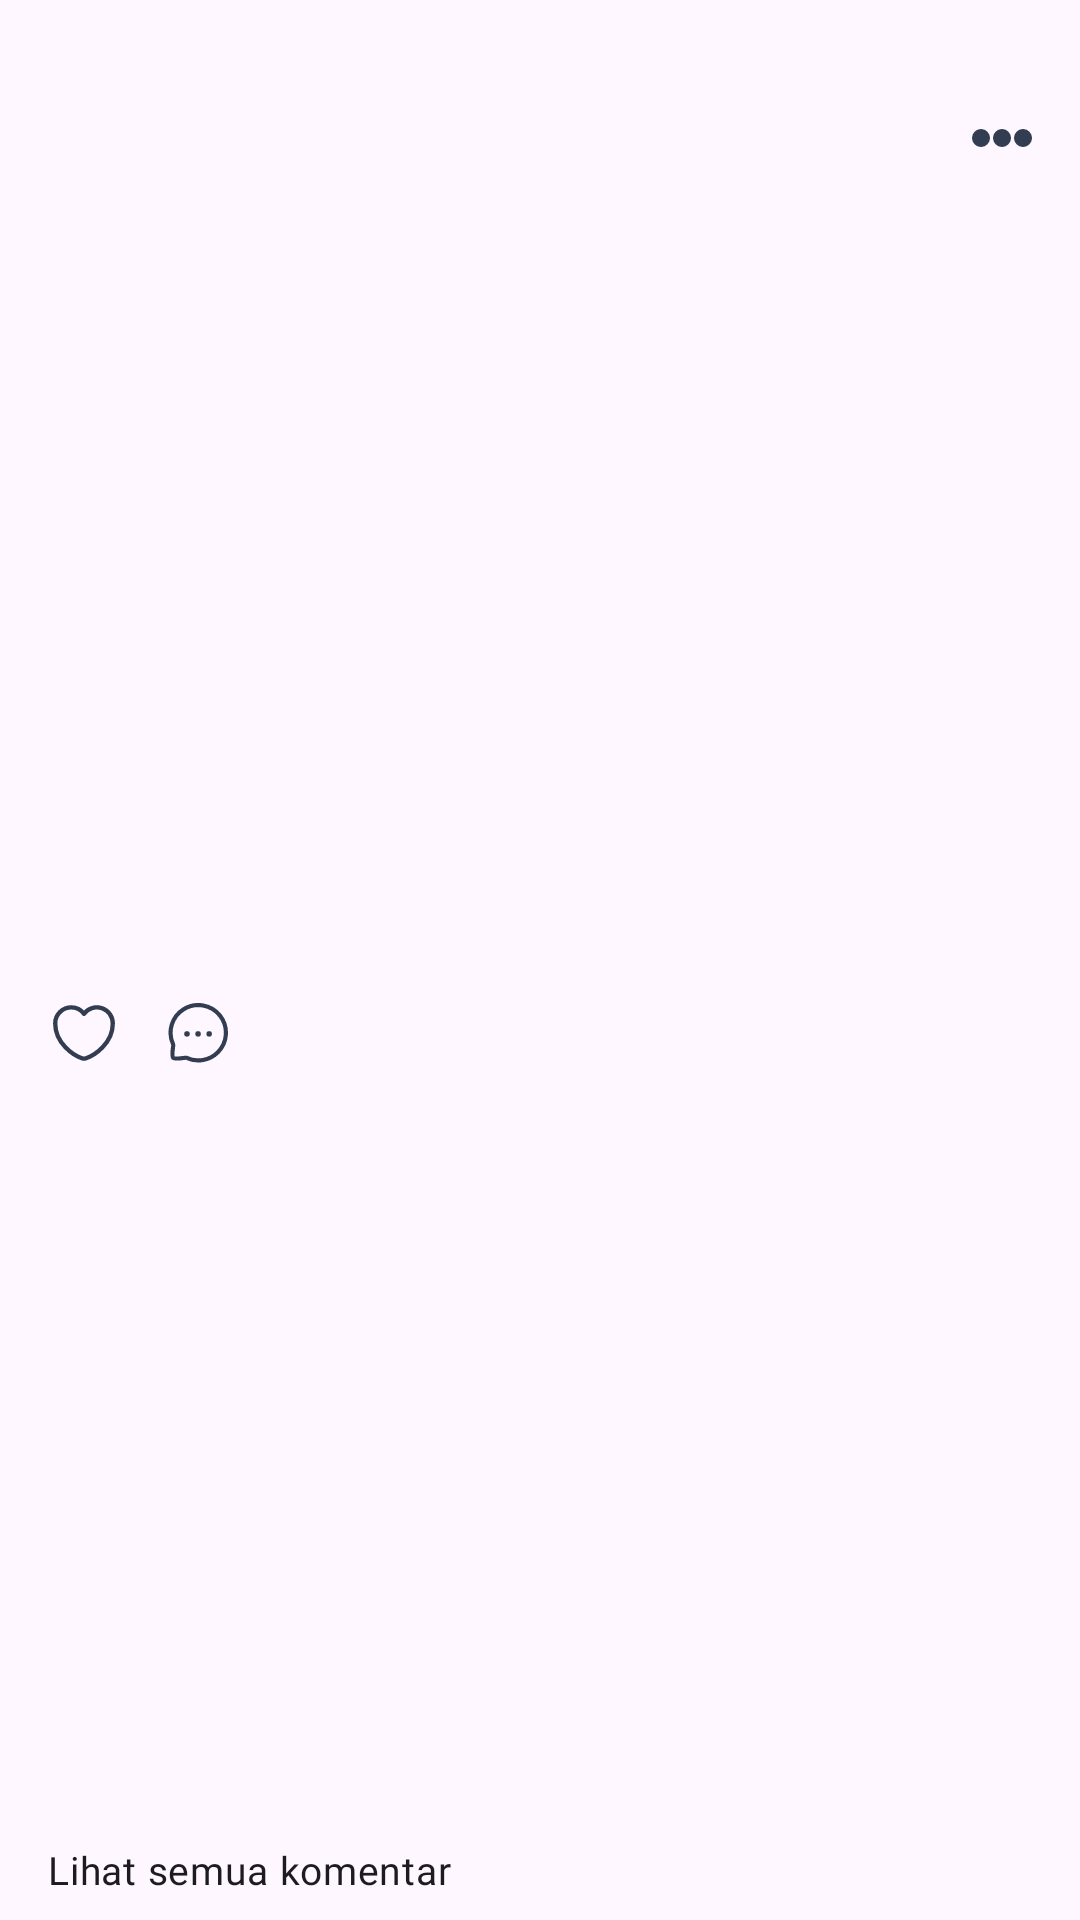

Locate icon controls on the screen. Image size 1080px x 1920px, boxes as (x1, y1, x2, y2).
Comment Moment: (168, 1003, 228, 1063)
Love Moment: (53, 1005, 115, 1061)
more: (972, 129, 1032, 147)
